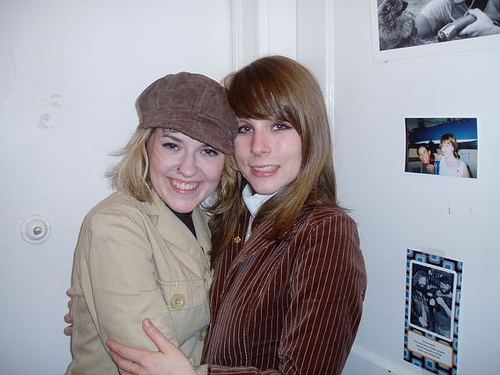without_mask: (138, 121, 228, 212), (230, 104, 311, 193), (439, 140, 457, 159), (416, 144, 432, 165), (438, 275, 452, 295), (416, 273, 428, 290)
